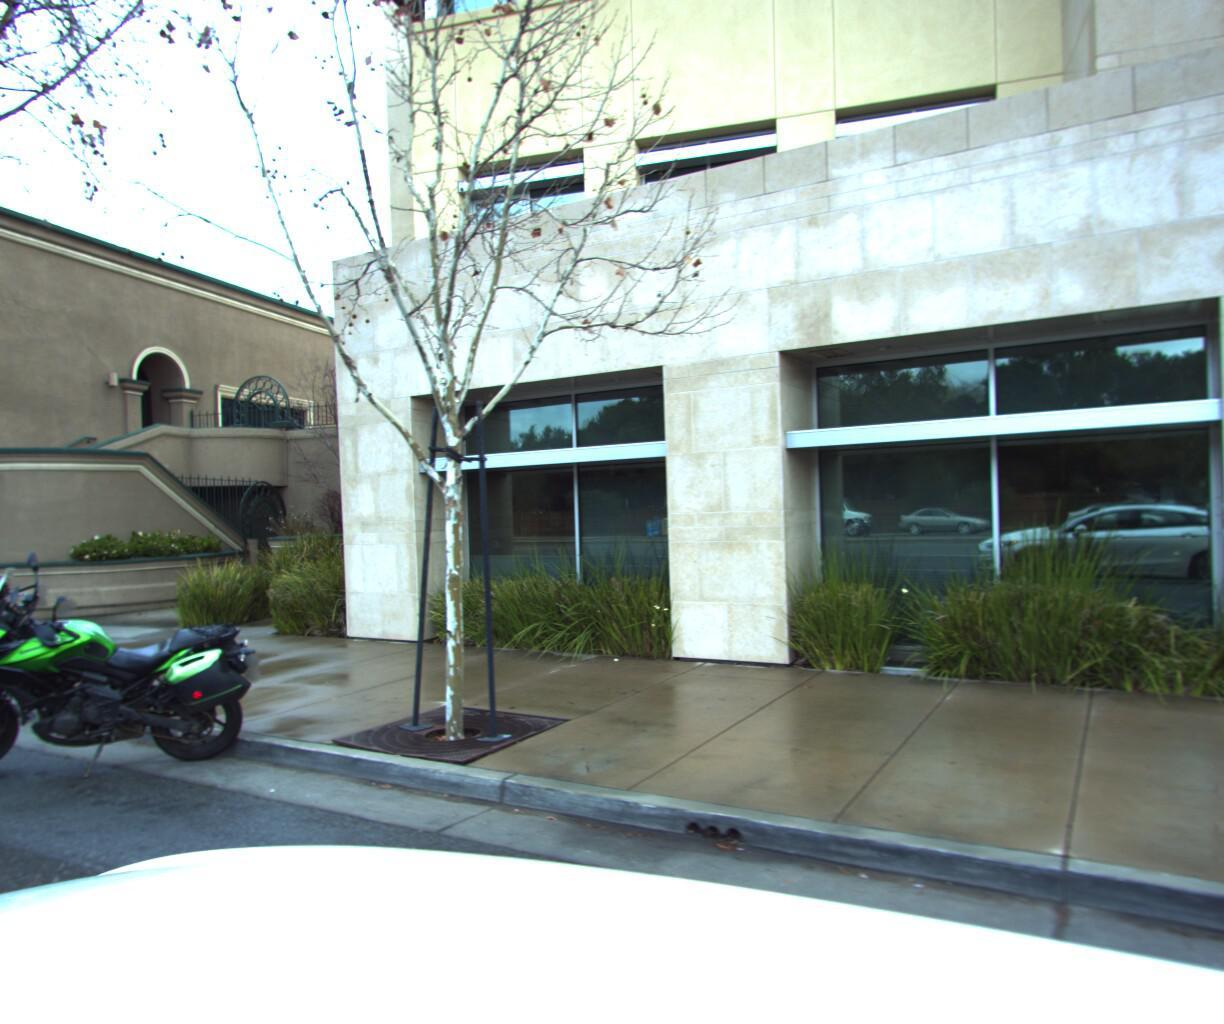motorcycle: (0, 538, 271, 825)
